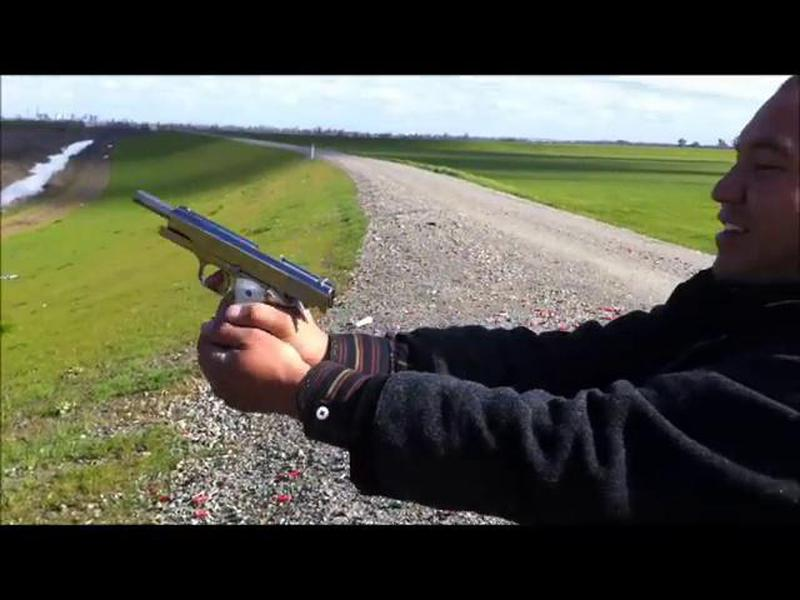Pistola: (109, 187, 361, 369)
